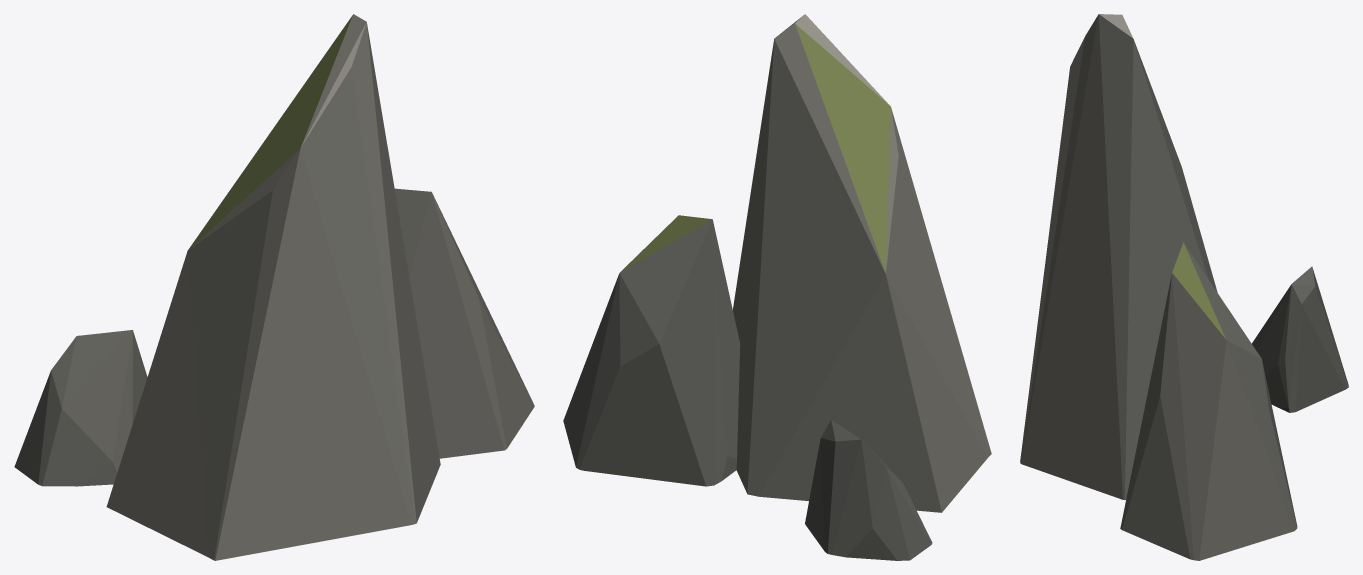
File: gk_rock_split_shards.glb
The picture shows the model from 3 angles, left to right: view 1: azimuth 30°, elevation 25°; view 2: azimuth 150°, elevation 25°; view 3: azimuth 270°, elevation 25°; orthographic projection. The views are drawn at different scales.
Visible parts, largest first — view 1: gk_rock_split_shards; view 2: gk_rock_split_shards; view 3: gk_rock_split_shards.
Boxes of the visible parts, x1,y1,x2,y2 form: gk_rock_split_shards: (14, 14, 534, 560); gk_rock_split_shards: (563, 14, 991, 560); gk_rock_split_shards: (1020, 14, 1348, 560).
Size of the model in its own units: 0.9527 by 0.9471 by 0.6327.
